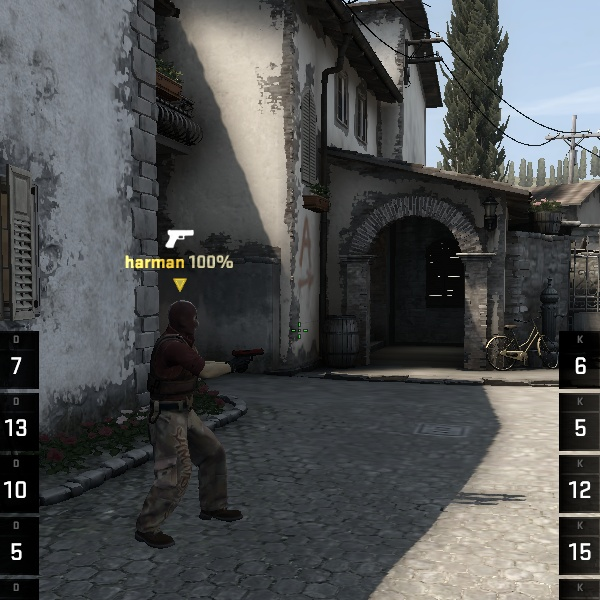t_body: (110, 293, 249, 539)
t_head: (155, 293, 208, 347)
